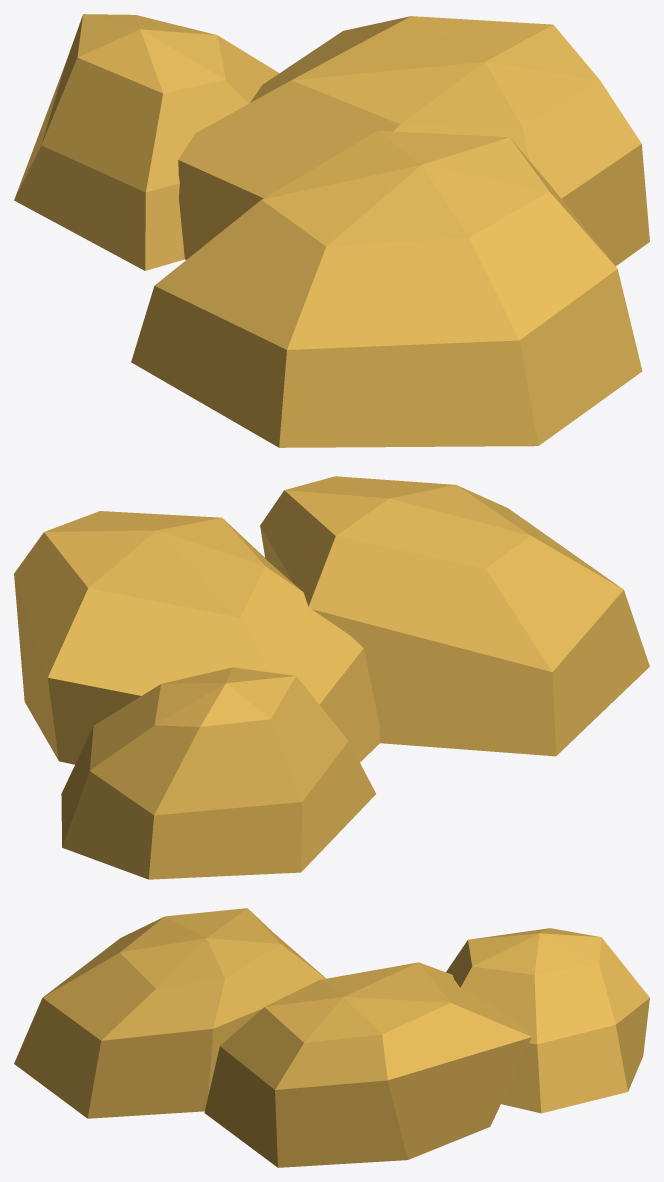
Rendered from Food.fbx.
3 views of the same model, one above another, from view 1: azimuth 30°, elevation 25°; view 2: azimuth 150°, elevation 25°; view 3: azimuth 270°, elevation 25° (orthographic). The views are drawn at different scales.
Parts seen in each view (by area): view 1: Food; view 2: Food; view 3: Food.
Part boxes in pixels (bbox=[...]): Food: bbox=[14, 14, 649, 447]; Food: bbox=[14, 476, 649, 879]; Food: bbox=[14, 908, 649, 1167].
Bounding box in the file's own units: 8.64 × 2.91 × 12.67.
